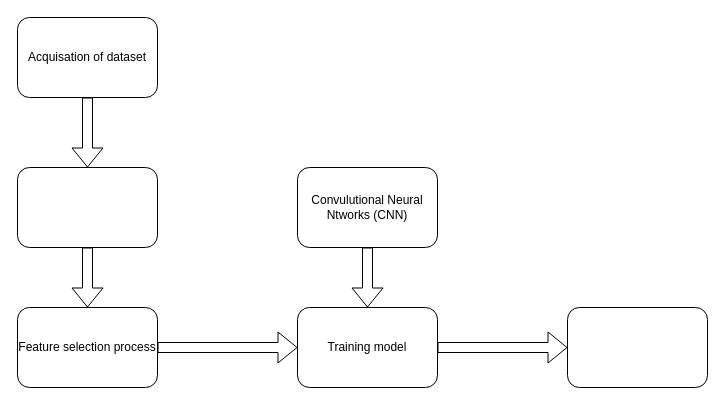
Image size: 725x405. Some labels were removed from this diagram. The box of each missing label's shape, as (x1, y1, x2, y2) in pixels:
Data preprocessing: (16, 166, 158, 248)
Test dataset: (566, 306, 708, 388)
